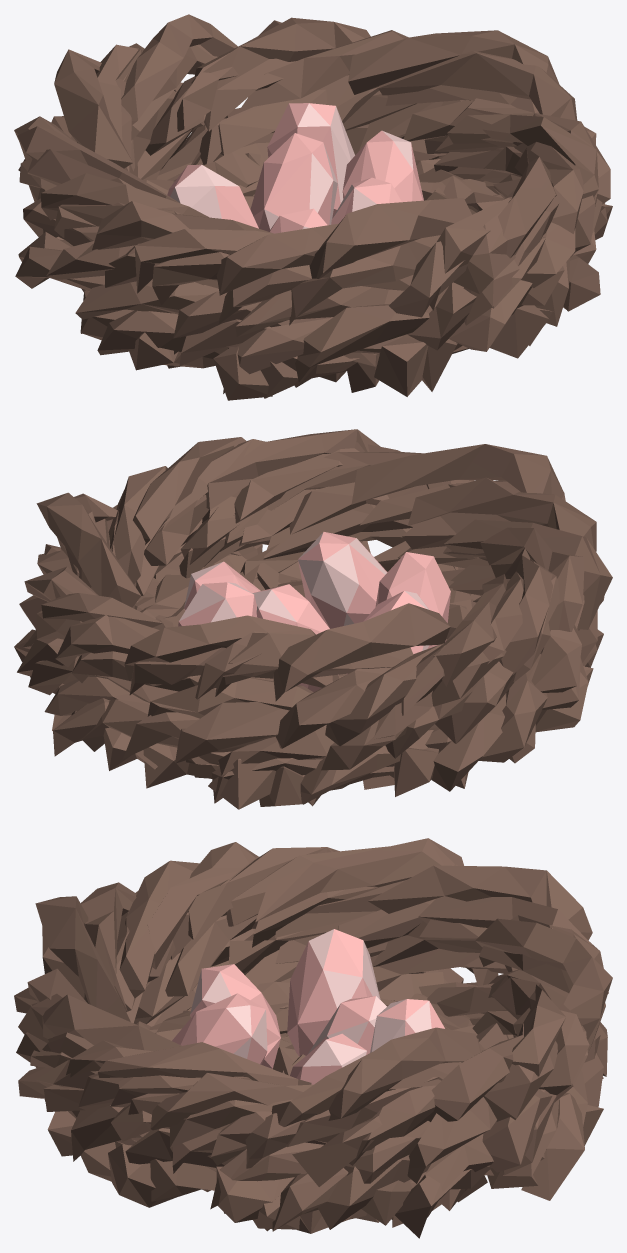
The model's file is Nest_12.fbx.
3 renders of one model, top to bottom at view 1: azimuth 30°, elevation 25°; view 2: azimuth 150°, elevation 25°; view 3: azimuth 270°, elevation 25°, orthographic.
Parts seen in each view (by area): view 1: Nest_12_LOD0; view 2: Nest_12_LOD0; view 3: Nest_12_LOD0.
Boxes of the visible parts, bbox=[...] form: Nest_12_LOD0: bbox=[14, 14, 612, 400]; Nest_12_LOD0: bbox=[14, 429, 612, 809]; Nest_12_LOD0: bbox=[14, 838, 612, 1238].
Size of what is drawn, in the model's own units: 67.25 by 26.96 by 65.85.
